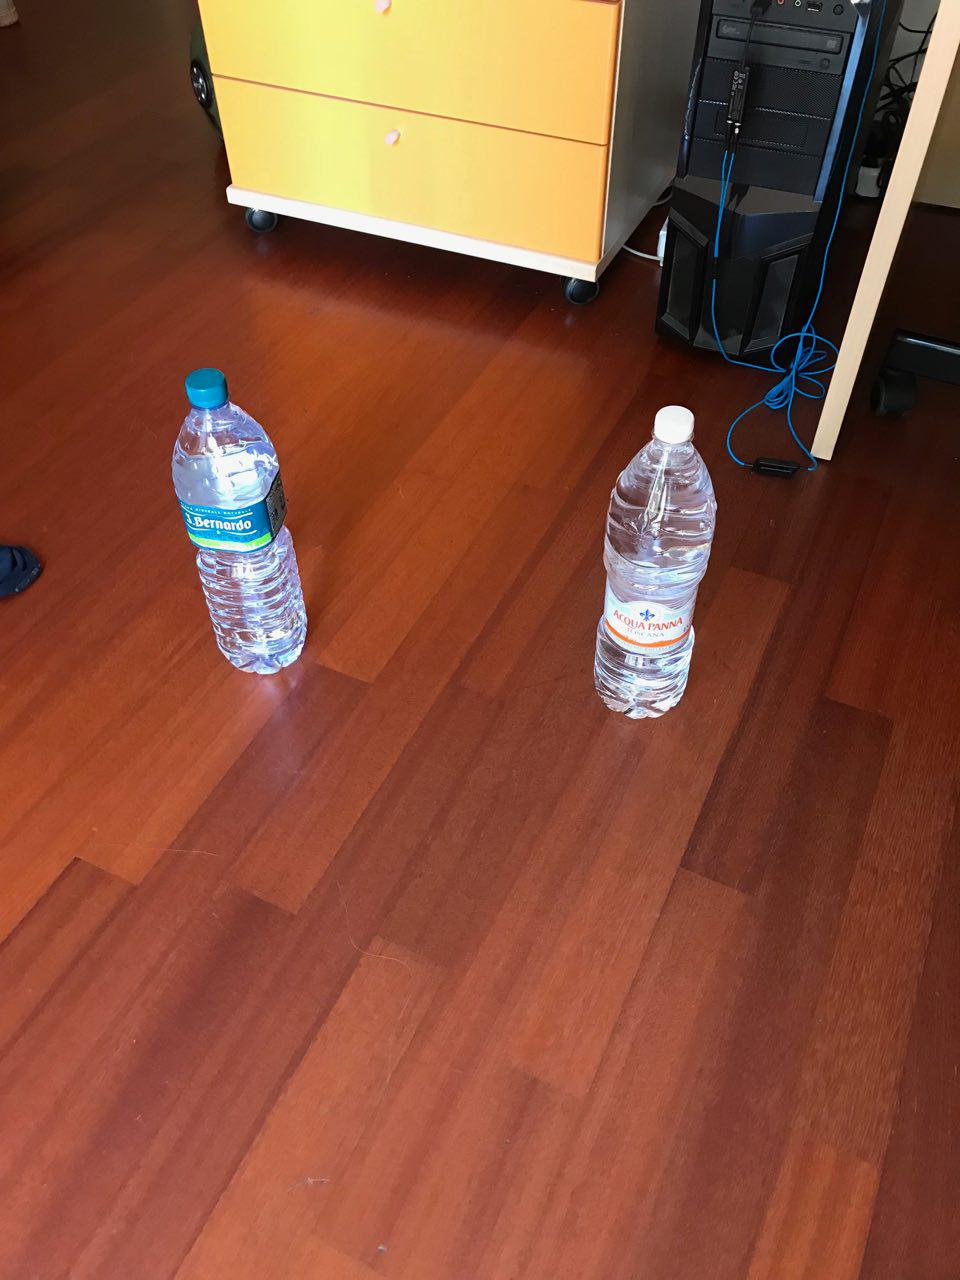san_bernardo: (170, 365, 309, 676)
